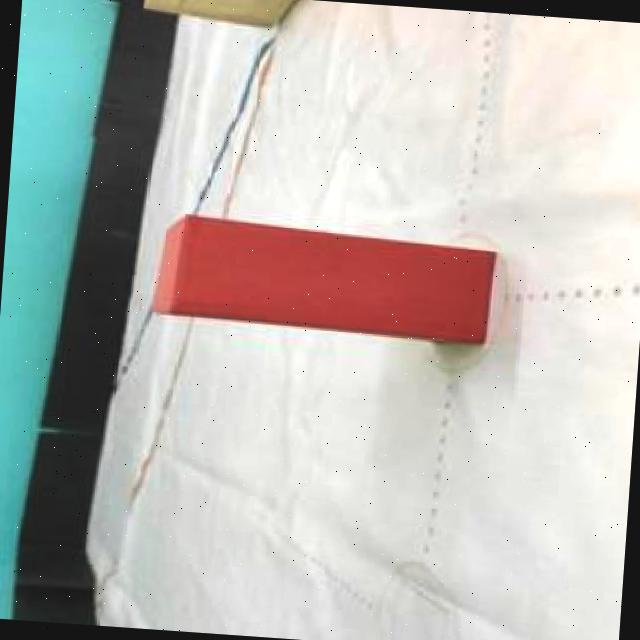redbox: (150, 210, 498, 348)
